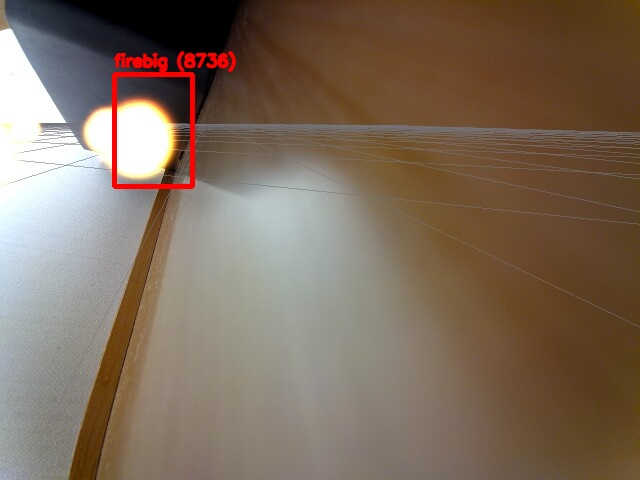firebig: (114, 74, 192, 186)
